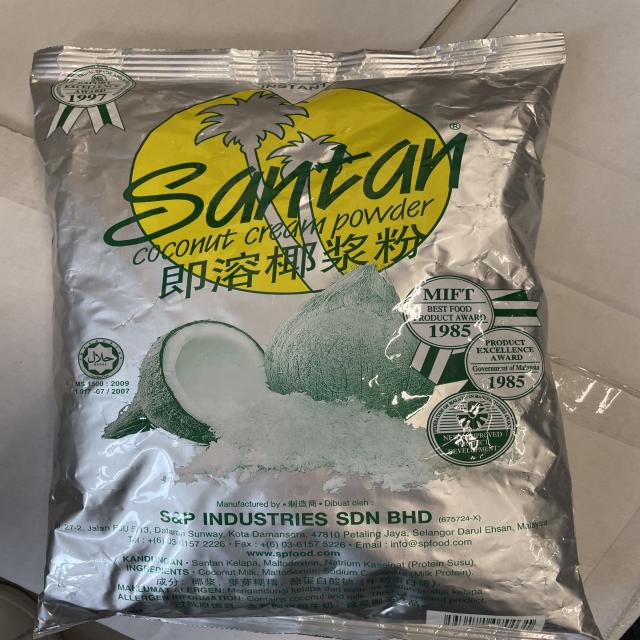object_name: (51, 60, 580, 630)
